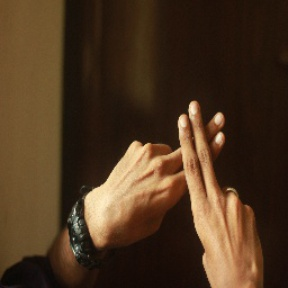F: (148, 91, 241, 219)
